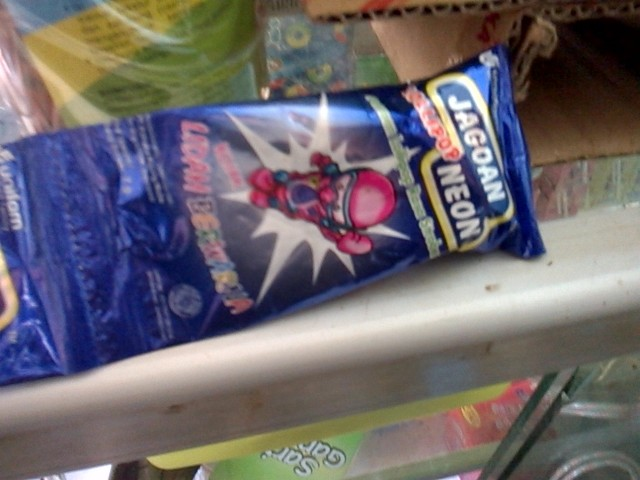jagoan neon: (56, 44, 544, 359)
